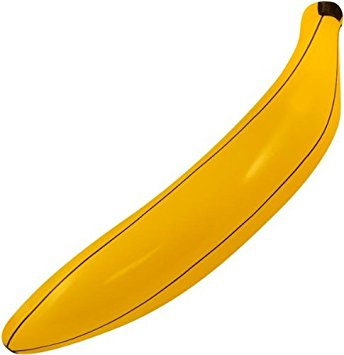banana: (5, 12, 333, 353)
